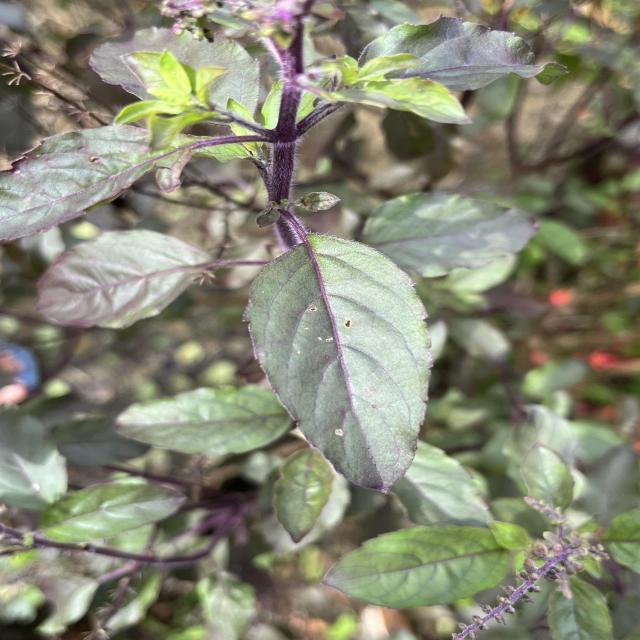Ocimum tenuiflorum: (240, 232, 436, 498)
